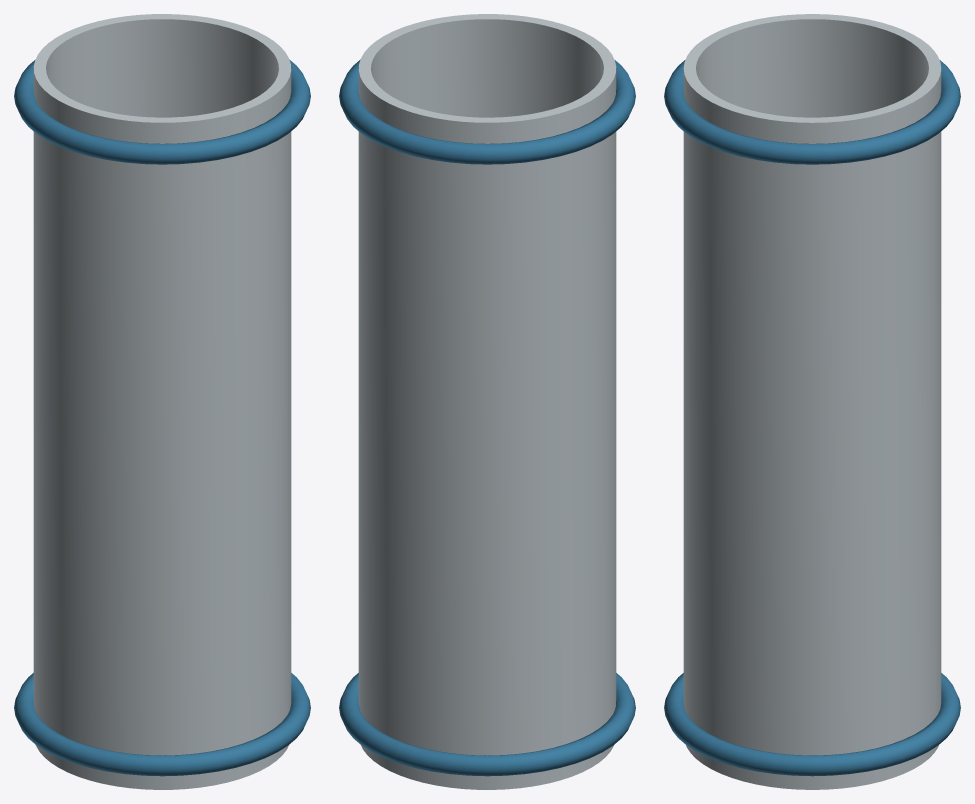
File: recycling-centre-and-material-sorting-extraction-duct--19ef2fb2__31148.glb
3 renders of one model, left to right at view 1: azimuth 30°, elevation 25°; view 2: azimuth 150°, elevation 25°; view 3: azimuth 270°, elevation 25°, orthographic.
Visible parts, largest first — view 1: extraction-duct-straight; view 2: extraction-duct-straight; view 3: extraction-duct-straight.
Boxes of the visible parts, x1,y1,x2,y2 form: extraction-duct-straight: (14,14,310,789); extraction-duct-straight: (339,14,635,789); extraction-duct-straight: (664,14,960,789).
Size of the model in its own units: 0.242 by 0.6 by 0.242.
